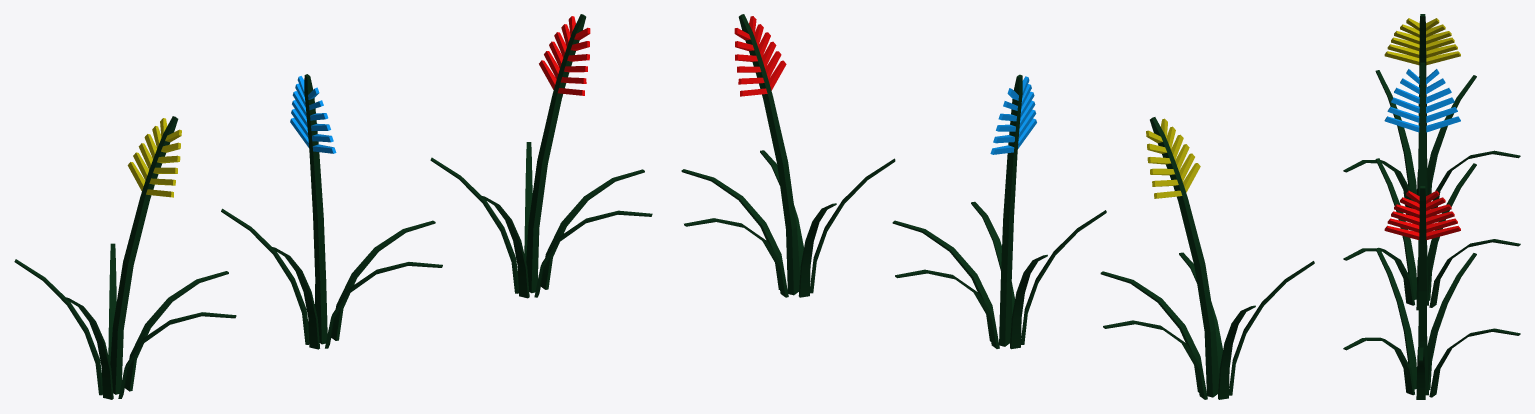
Rendered from 2016-01-30_GGJO_Ruben-Hansen_Grass001.FBX.
3 views of the same model, side by side, from view 1: azimuth 30°, elevation 25°; view 2: azimuth 150°, elevation 25°; view 3: azimuth 270°, elevation 25° (orthographic). The views are drawn at different scales.
Parts seen in each view (by area): view 1: Box013, Box001, Box007, Box016, Box002, Box010, Box015, Box006, Box009, Box005, Box017, Box011 (+5 smaller); view 2: Box013, Box001, Box007, Box016, Box010, Box002, Box017, Box011, Box005, Box018, Box004, Box012 (+3 smaller); view 3: Box001, Box007, Box013, Box006, Box005, Box015, Box009, Box017, Box011, Box003, Box008, Box004 (+4 smaller).
Boxes of the visible parts, x1=… form: Box013: x1=110, y1=116, x2=181, y2=394; Box001: x1=526, y1=14, x2=590, y2=293; Box007: x1=290, y1=74, x2=336, y2=344; Box016: x1=125, y1=271, x2=228, y2=391; Box002: x1=541, y1=169, x2=644, y2=289; Box010: x1=331, y1=220, x2=435, y2=340; Box015: x1=65, y1=297, x2=113, y2=399; Box006: x1=481, y1=195, x2=529, y2=298; Box009: x1=271, y1=247, x2=319, y2=349; Box005: x1=430, y1=157, x2=518, y2=293; Box017: x1=14, y1=259, x2=102, y2=395; Box011: x1=221, y1=208, x2=309, y2=344; Box013: x1=1146, y1=117, x2=1218, y2=397; Box001: x1=734, y1=14, x2=799, y2=295; Box007: x1=990, y1=74, x2=1036, y2=346; Box016: x1=1100, y1=271, x2=1205, y2=392; Box010: x1=892, y1=220, x2=997, y2=341; Box002: x1=681, y1=169, x2=786, y2=289; Box017: x1=1218, y1=305, x2=1255, y2=399; Box011: x1=1010, y1=254, x2=1047, y2=349; Box005: x1=798, y1=203, x2=836, y2=297; Box018: x1=1103, y1=320, x2=1207, y2=399; Box004: x1=684, y1=218, x2=788, y2=297; Box012: x1=895, y1=269, x2=999, y2=348; Box001: x1=1384, y1=186, x2=1460, y2=395; Box007: x1=1384, y1=62, x2=1460, y2=305; Box013: x1=1384, y1=14, x2=1460, y2=195; Box006: x1=1375, y1=247, x2=1416, y2=389; Box005: x1=1427, y1=253, x2=1476, y2=390; Box015: x1=1375, y1=70, x2=1416, y2=201; Box009: x1=1375, y1=158, x2=1416, y2=299; Box017: x1=1427, y1=75, x2=1476, y2=201; Box011: x1=1427, y1=163, x2=1476, y2=300; Box003: x1=1343, y1=337, x2=1414, y2=395; Box008: x1=1343, y1=248, x2=1414, y2=305; Box004: x1=1429, y1=328, x2=1520, y2=397.
Size of the model in its own units: 78.95 by 33.66 by 22.96.
3 materials, 3 textured.
